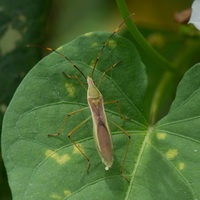insect: (27, 14, 133, 172)
